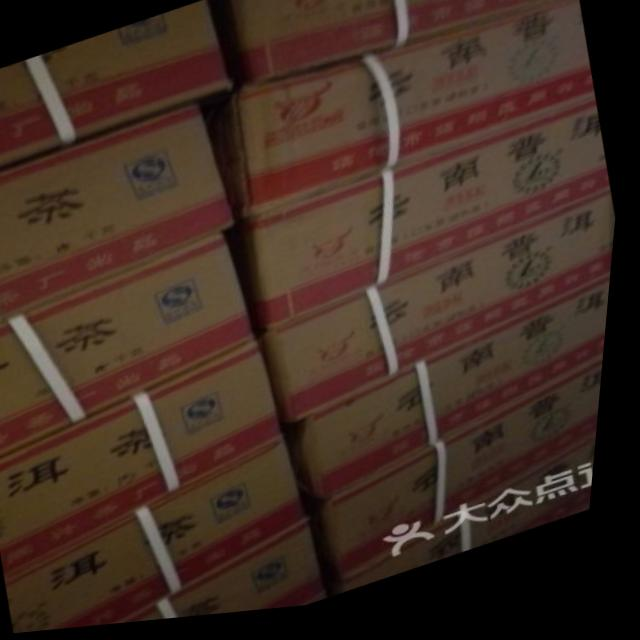box: (251, 110, 616, 344), (228, 6, 598, 227), (273, 210, 620, 436), (303, 295, 616, 520), (0, 347, 290, 577), (0, 238, 266, 463), (331, 377, 610, 585), (16, 449, 323, 635), (0, 104, 242, 327), (0, 2, 228, 168), (355, 461, 604, 596), (223, 0, 579, 88), (132, 529, 348, 627)
